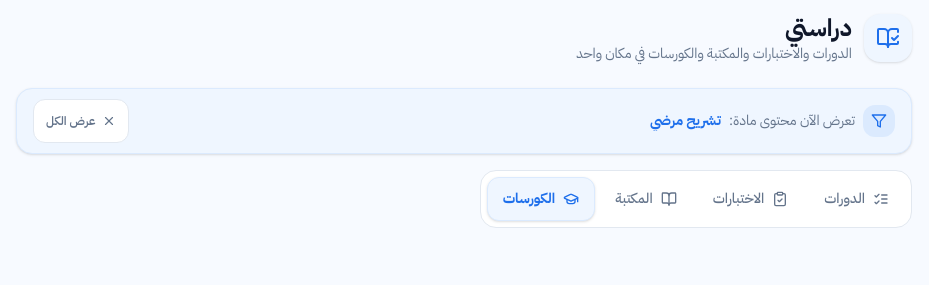
Test: My Studies — subjectId query-param filtering › clearing the filter drops the subjectId param
The width and height of the screenshot is (929, 285).
Click the button "عرض الكل": x=81, y=121 x1=33 y1=99 x2=129 y2=143
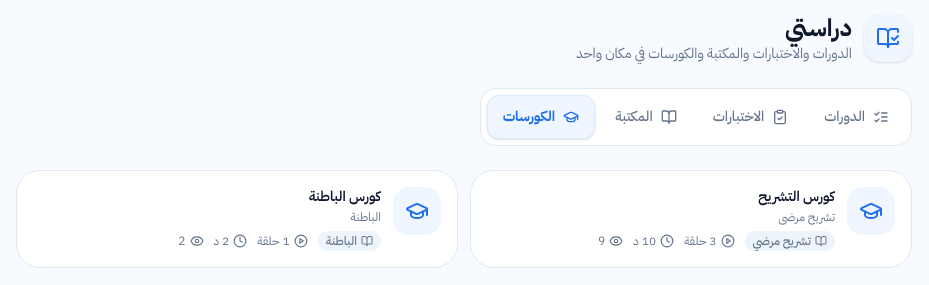
Expected: the element with test id "subject-filter-chip" is gone
Expected: the text "كورس الباطنة" is shown, x1=309 y1=186 x2=381 y2=207
